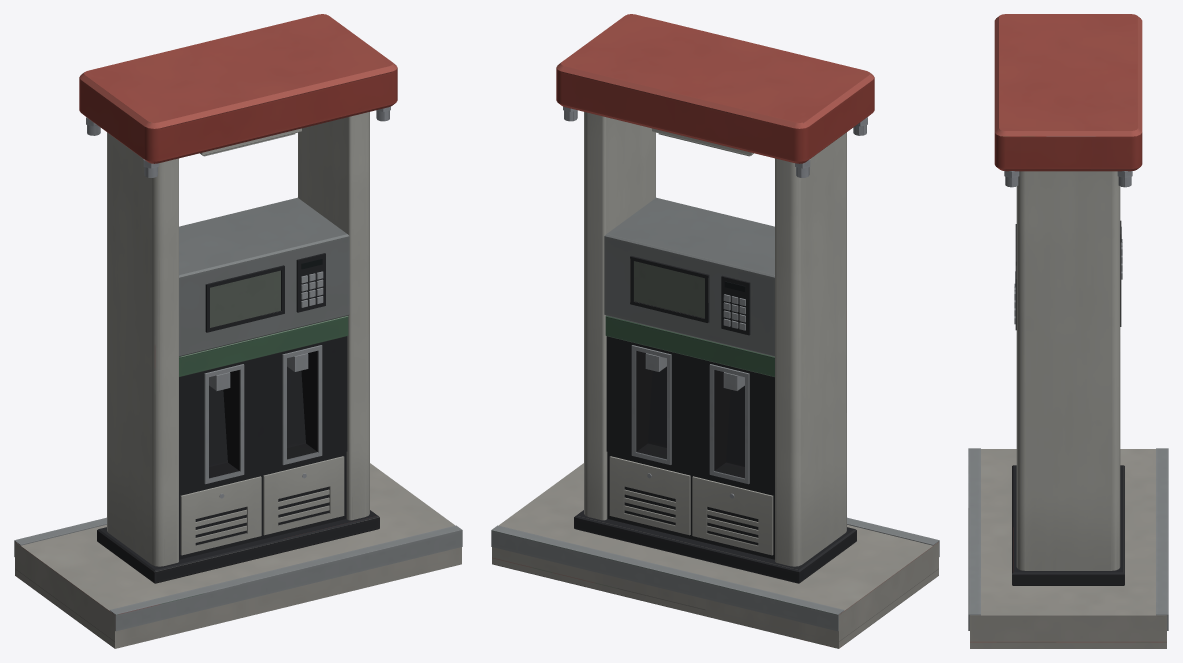
File: body.obj
The picture shows the model from 3 angles, left to right: view 1: azimuth 30°, elevation 25°; view 2: azimuth 150°, elevation 25°; view 3: azimuth 270°, elevation 25°; orthographic projection.
Parts seen in each view (by area): view 1: header, pillar_l, curb, head, bay_back, pillar_r, nosing, doors_back, plinth, band, cabinet, curb_bottom (+9 smaller); view 2: header, pillar_l, curb, head, bay_front, pillar_r, nosing, doors_front, plinth, band, cabinet, curb_bottom (+9 smaller); view 3: pillar_r, header, curb, nosing, plinth, curb_bottom.
Boxes of the visible parts, x1,y1,x2,y2 form: header: (79,14,397,163); pillar_l: (107,132,178,566); curb: (15,463,461,641); head: (179,197,349,356); bay_back: (179,336,347,492); pillar_r: (298,112,369,520); nosing: (14,517,462,631); doors_back: (180,456,344,555); plinth: (97,510,379,583); band: (179,316,348,376); cabinet: (179,452,346,559); curb_bottom: (15,557,461,648); header: (556,14,874,163); pillar_l: (775,132,846,566); curb: (492,463,938,641); head: (604,197,774,356); bay_front: (606,336,774,492); pillar_r: (584,112,655,520); nosing: (491,517,939,631); doors_front: (609,456,773,555); plinth: (574,510,856,583); band: (605,316,774,376); cabinet: (607,452,774,559); curb_bottom: (492,557,938,648); pillar_r: (1016,171,1120,570); header: (994,14,1142,171); curb: (970,449,1166,642); nosing: (968,448,1168,630); plinth: (1012,465,1124,585); curb_bottom: (970,642,1166,648).
Bounding box in the file's own units: 2 × 2.76 × 1.02.
